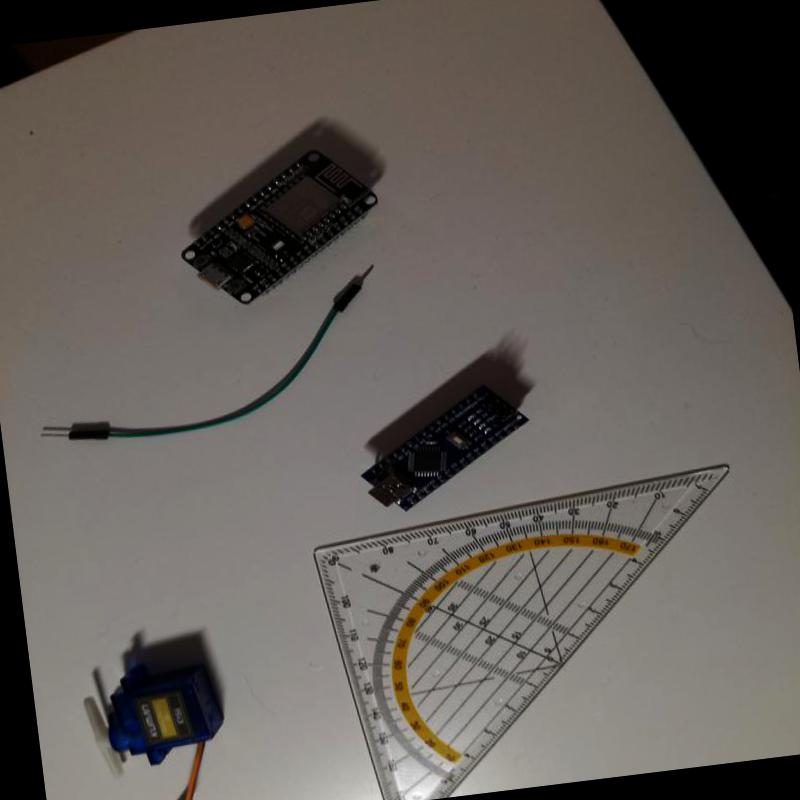Arduino_Nano: (349, 375, 540, 520)
ESP8266: (170, 141, 394, 317)
